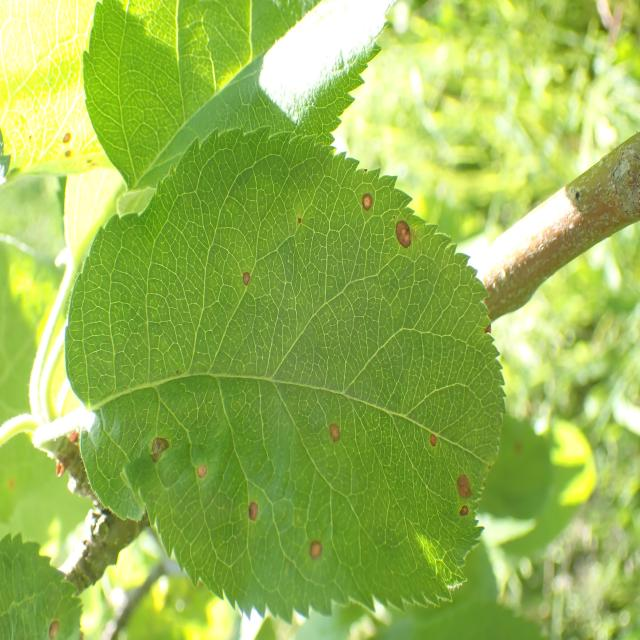Black Rot: (146, 429, 183, 494), (415, 404, 448, 464), (454, 469, 478, 538), (188, 451, 216, 501), (225, 250, 252, 298), (302, 526, 329, 574), (390, 215, 416, 264), (238, 491, 268, 531), (318, 417, 347, 447), (356, 182, 377, 219)
